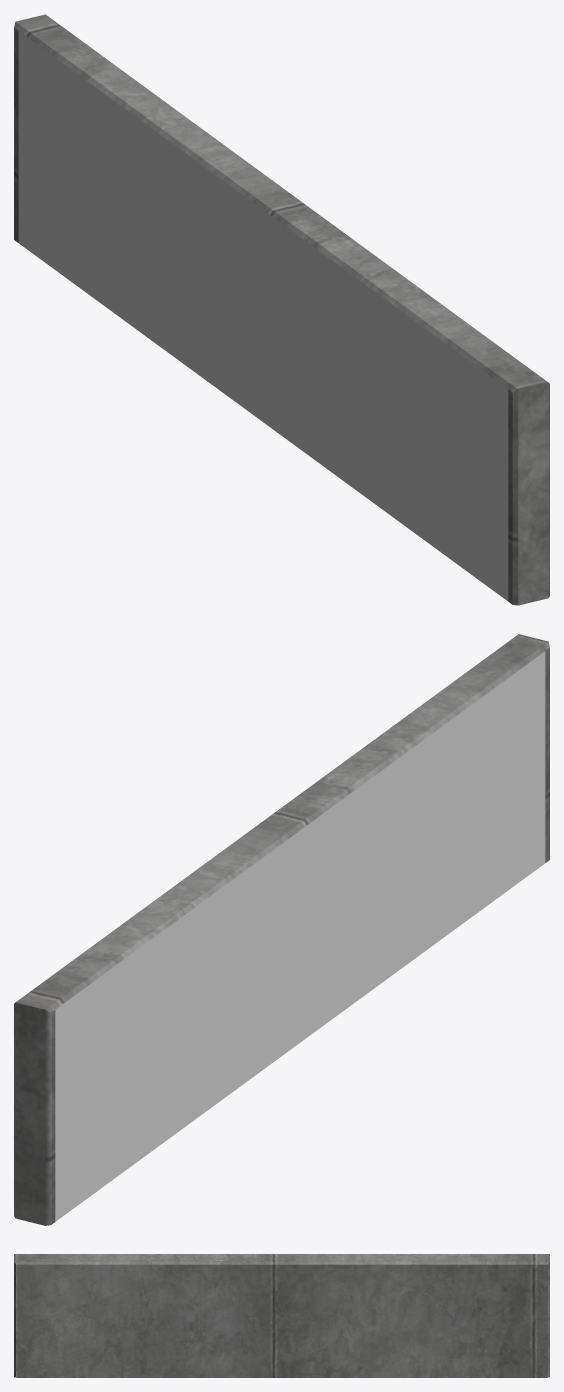
The model's file is 101BuildingFixed1.fbx.
3 views of the same model, one above another, from view 1: azimuth 30°, elevation 25°; view 2: azimuth 150°, elevation 25°; view 3: azimuth 270°, elevation 25° (orthographic). The views are drawn at different scales.
Parts seen in each view (by area): view 1: Areas:building.189; view 2: Areas:building.189; view 3: Areas:building.189.
Part boxes in pixels (x1,y1,x2,y2): Areas:building.189: (14,14,549,605); Areas:building.189: (14,634,549,1225); Areas:building.189: (14,1254,549,1377).
Bounding box in the file's own units: 8.72 × 48.56 × 205.
